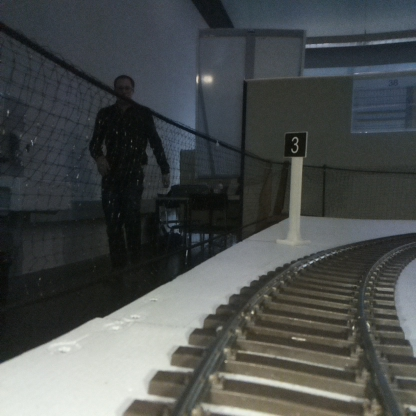black-info-3: (284, 131, 306, 244)
